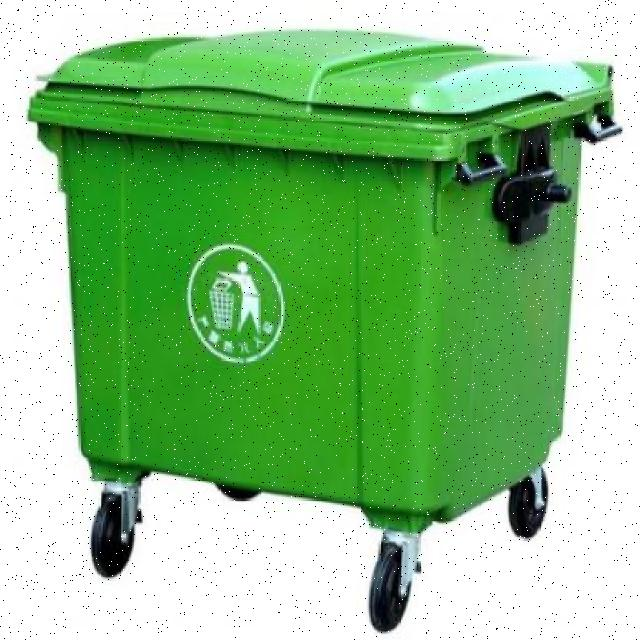garbage container: (8, 19, 634, 638)
